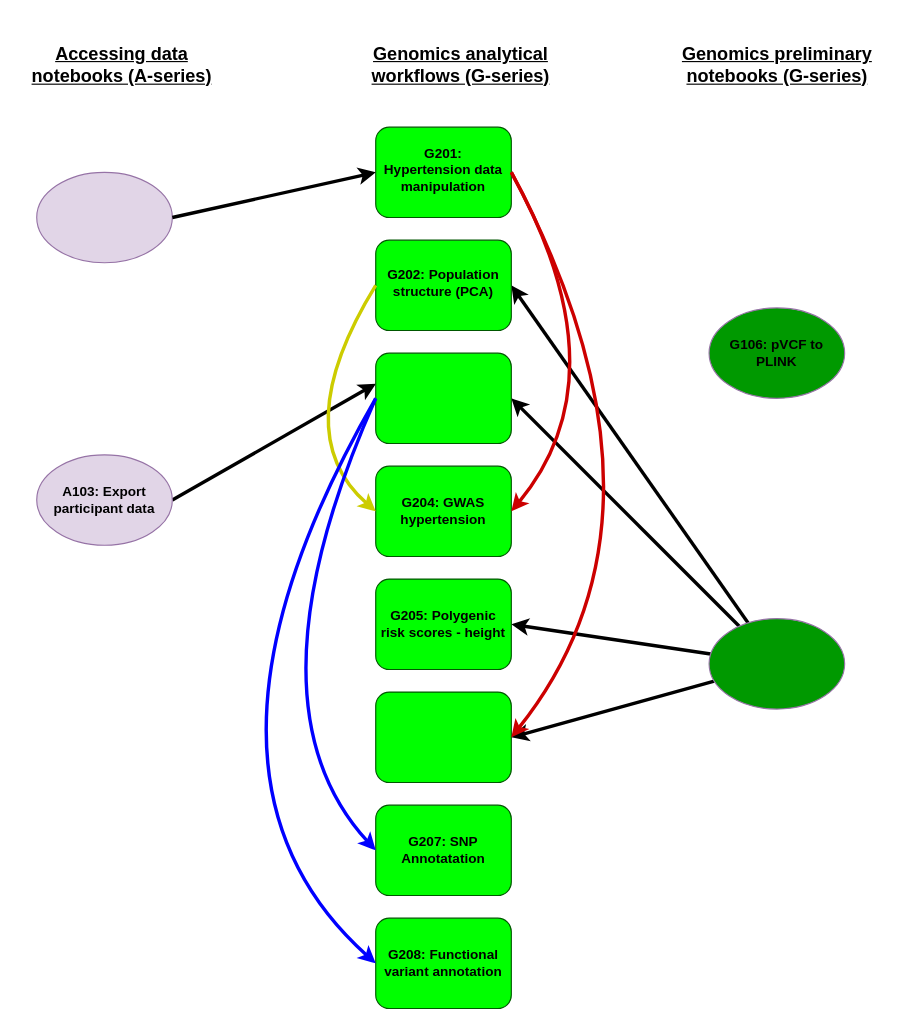
Image size: 903x1028. Some labels were removed from this diagram. Here are the shapes that lost their labels. From the top down, the centre of each, then its label:
At (104,217): "A106: OMOP format data".
At (443,398): "G203: GWAS participant height".
At (776,663): "G107: PLINK".
At (443,737): "G206: Polygenic risk scores - hypertension".
